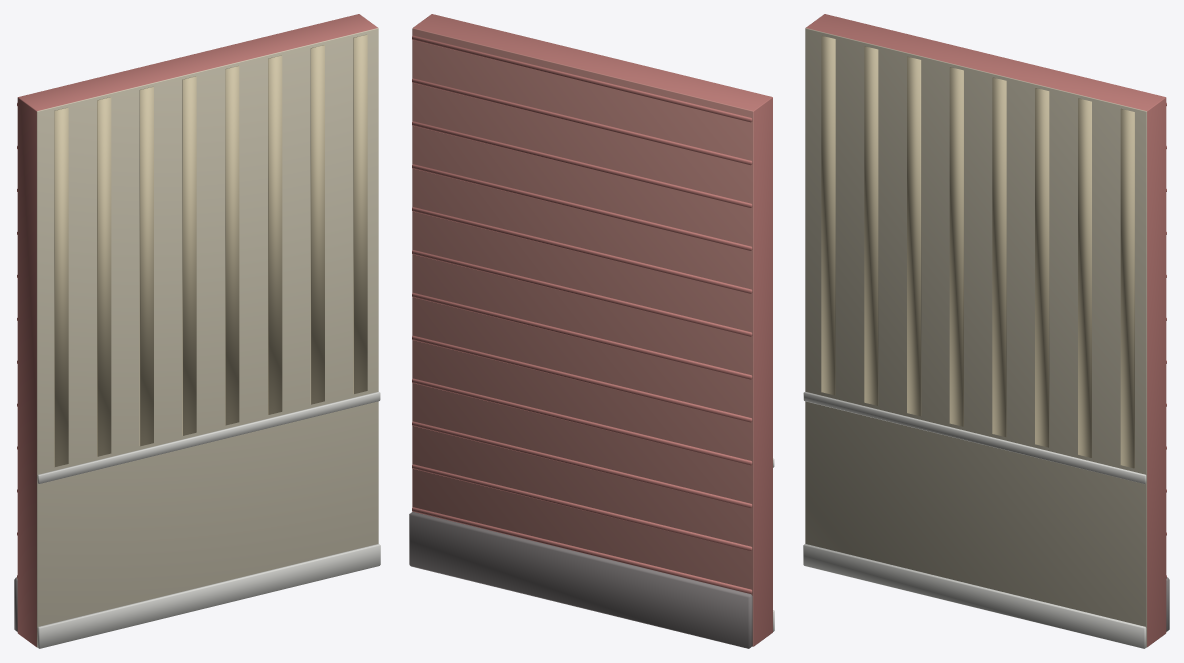
The model's file is wall_pink.glb.
3 views of the same model, side by side, from view 1: azimuth 30°, elevation 25°; view 2: azimuth 150°, elevation 25°; view 3: azimuth 330°, elevation 25° (orthographic).
Visible parts, largest first — view 1: wall_pink; view 2: wall_pink; view 3: wall_pink.
Boxes of the visible parts, x1,y1,x2,y2 form: wall_pink: (14,14,380,648); wall_pink: (409,14,774,648); wall_pink: (803,14,1169,648).
Bounding box in the file's own units: 2 × 3 × 0.26.
